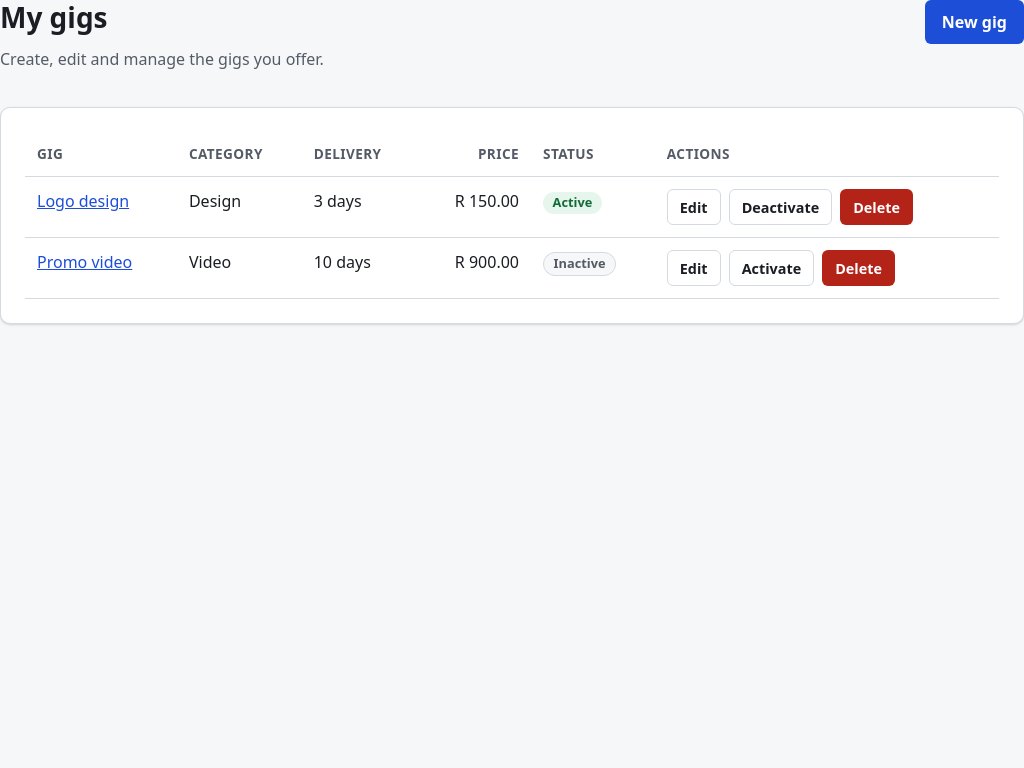
Test: My gigs › asks for confirmation before deleting, and Cancel deletes nothing
The width and height of the screenshot is (1024, 768).
Click the button "Delete" in the row of "Logo design".
click(876, 207)  # box [840,189,913,225]
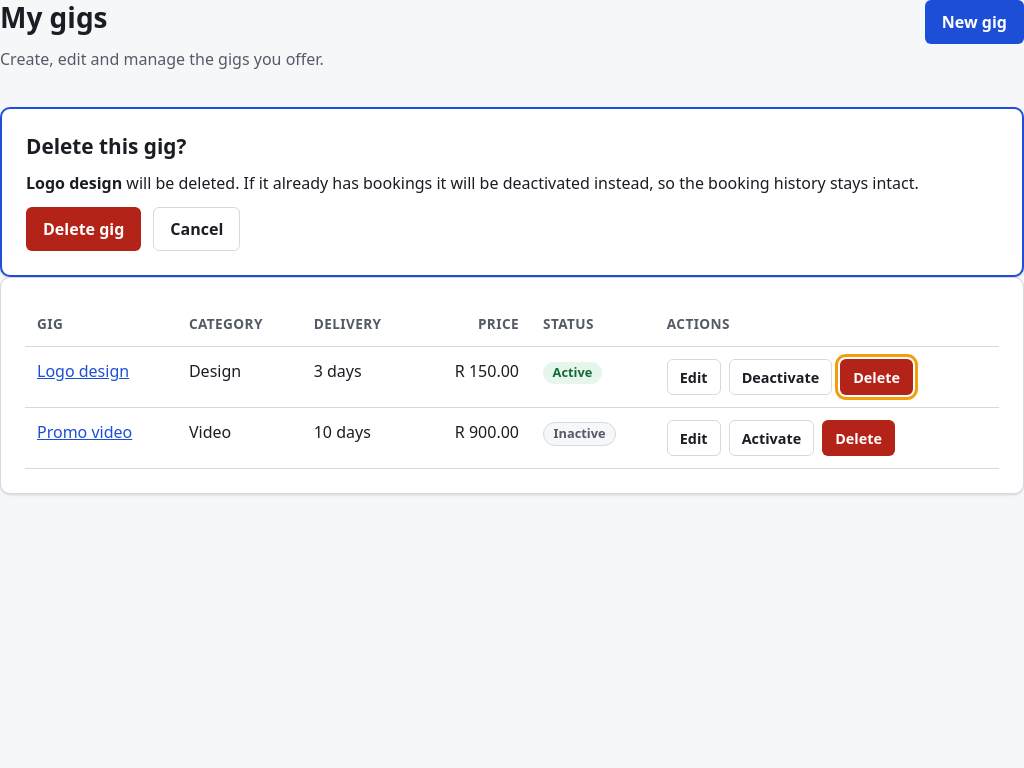
Now the text "Logo design" is shown, box [26,172,122,194]
Click the button "Cancel".
click(197, 229)  # box [153,207,240,251]
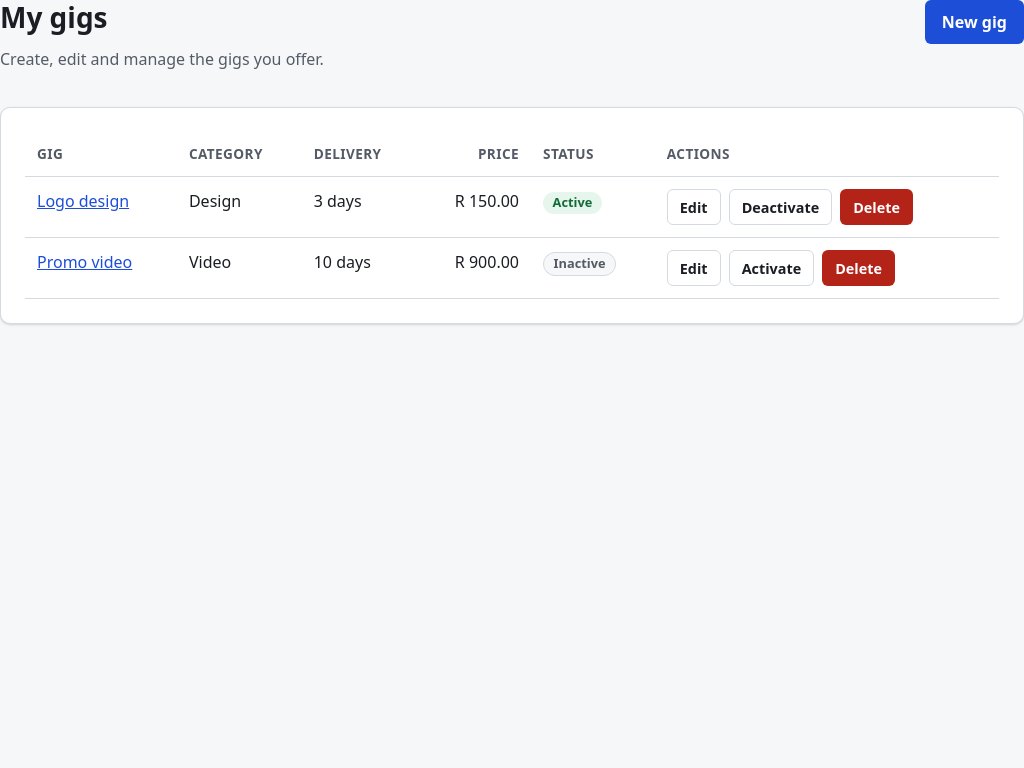
Now the dialog is gone
